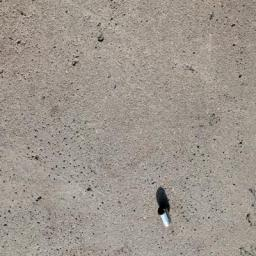FOD: (156, 187, 175, 231)
